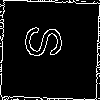S: (25, 25, 71, 59)
